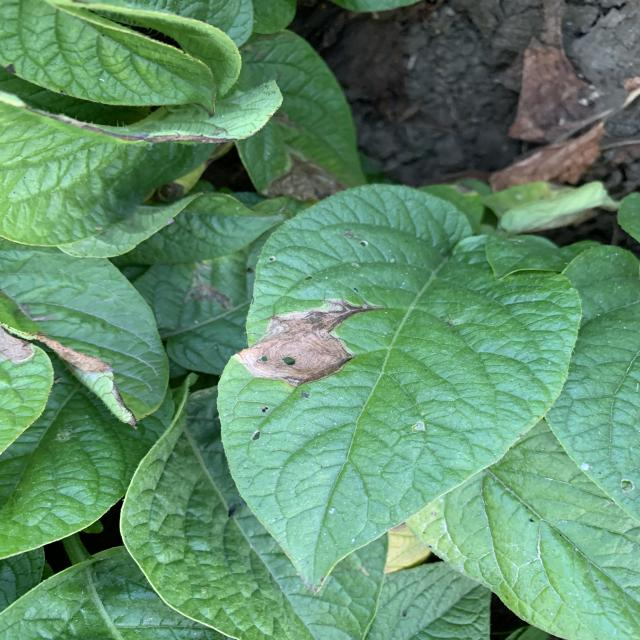lateblight: (235, 299, 383, 386), (0, 321, 118, 395), (267, 155, 347, 201), (0, 328, 35, 364)
